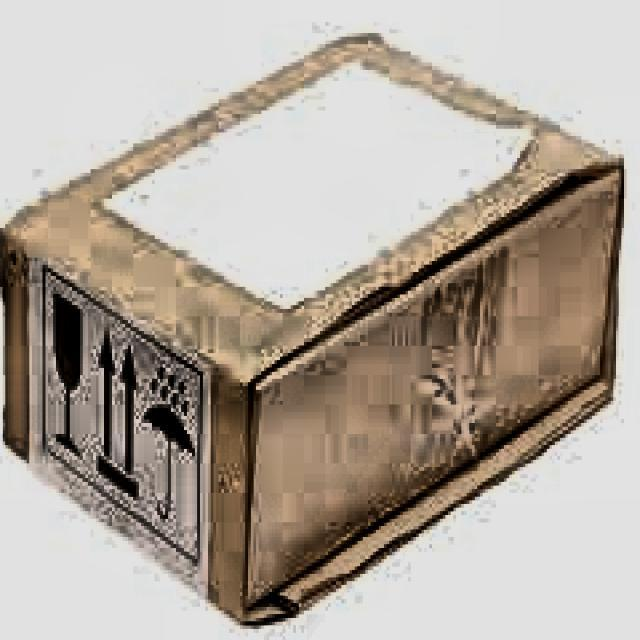cardboard: (0, 25, 624, 626)
